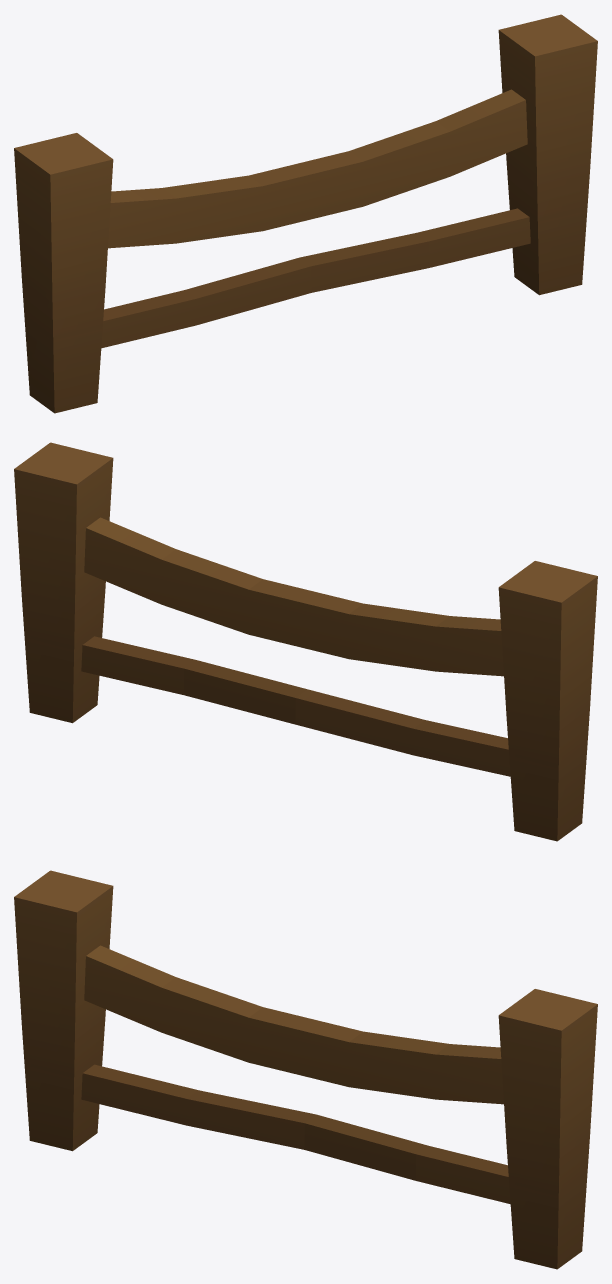
Rendered from Fence_01.fbx.
3 renders of one model, top to bottom at view 1: azimuth 30°, elevation 25°; view 2: azimuth 150°, elevation 25°; view 3: azimuth 330°, elevation 25°, orthographic.
Parts seen in each view (by area): view 1: Fence_01; view 2: Fence_01; view 3: Fence_01.
Part boxes in pixels (x1,y1,x2,y2): Fence_01: (14,14,597,413); Fence_01: (14,442,597,841); Fence_01: (14,870,597,1269).
Bounding box in the file's own units: 238 × 102 × 27.39.
